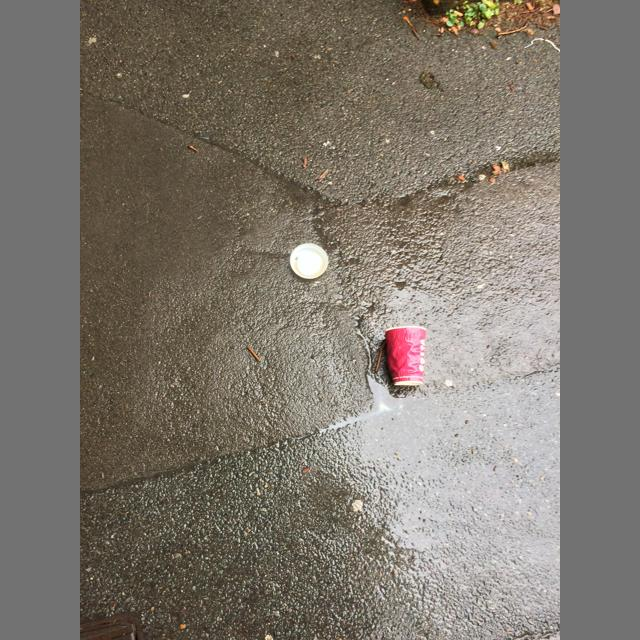litter: (385, 325, 426, 385), (290, 244, 329, 279)
